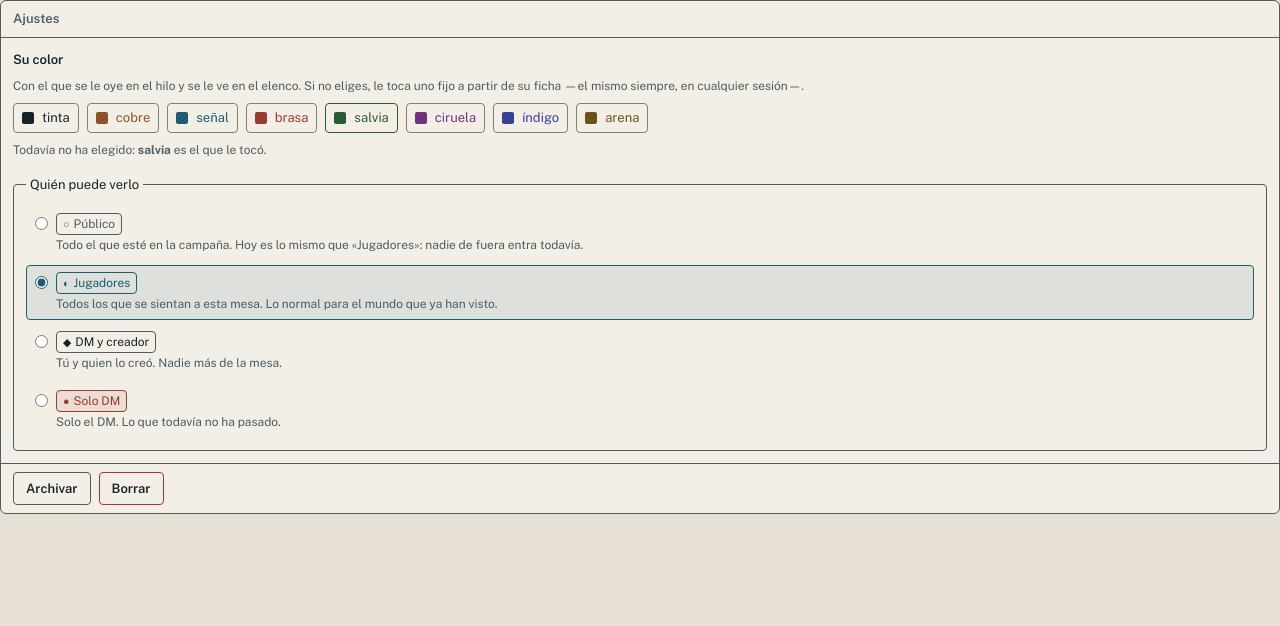
Archivar — el gesto fácil, en la ficha del personaje › la confirmación dice la consecuencia y que se recupera, y nunca pregunta si estás seguro
The width and height of the screenshot is (1280, 626).
What coordinates should you click on to do the following:
click the button "Archivar"
I would click on:
 (52, 488)
Its box is [13,472,90,505].
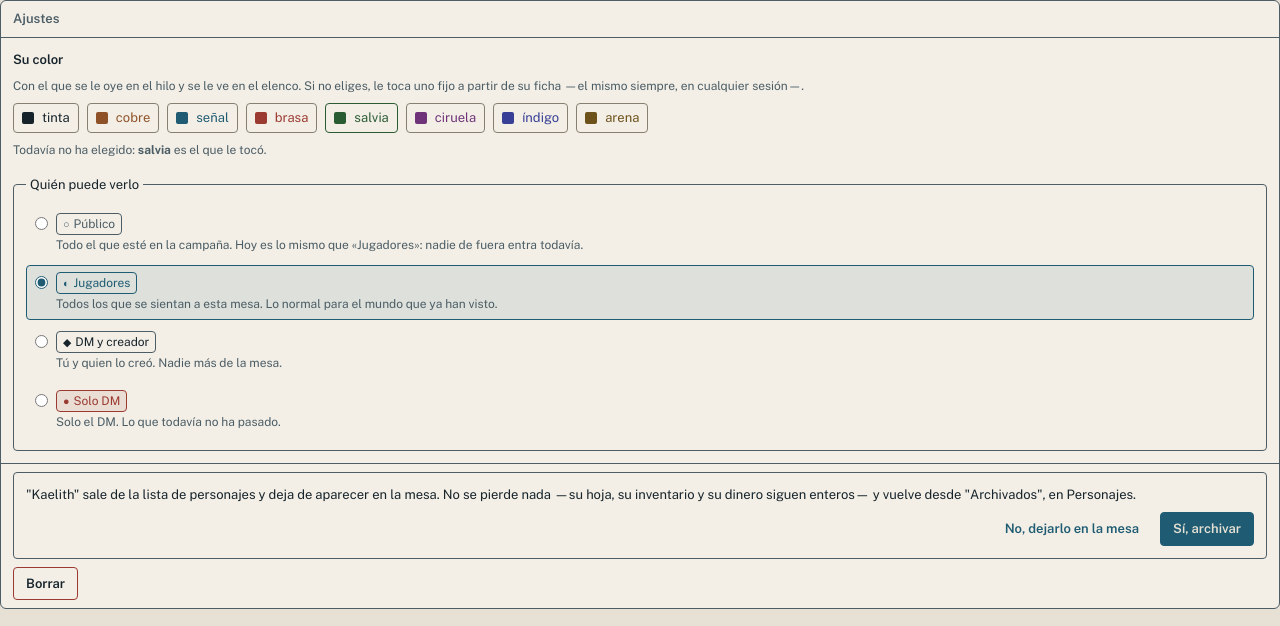
Expected: the text "vuelve desde \"Archivados\"" is shown, [26,487,1136,502]
